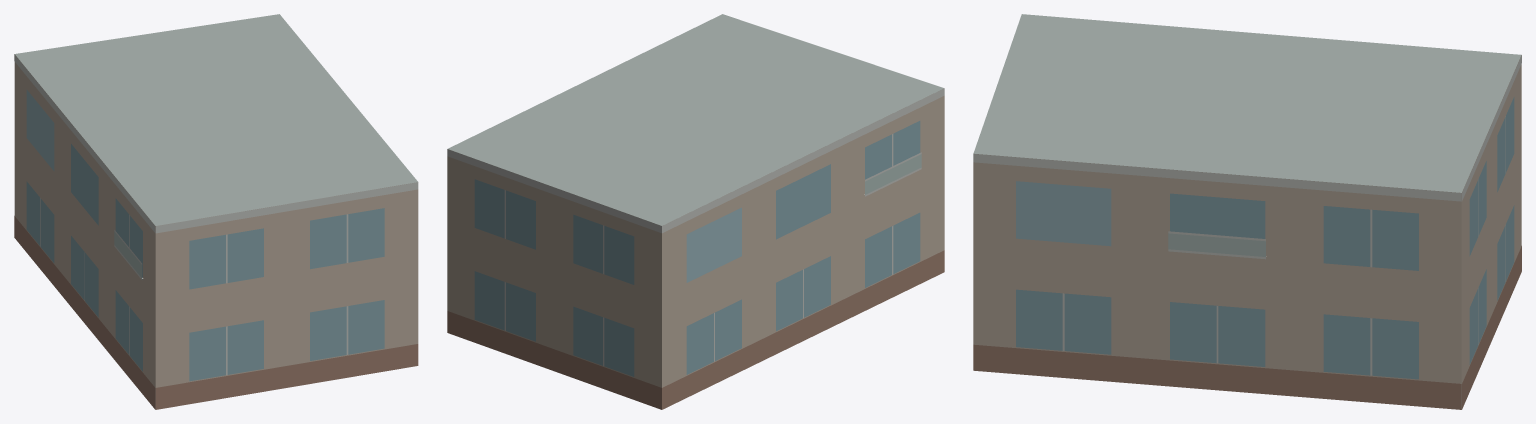
The model's file is survey-upis-32484530.glb.
The picture shows the model from 3 angles, left to right: view 1: azimuth 30°, elevation 25°; view 2: azimuth 150°, elevation 25°; view 3: azimuth 270°, elevation 25°; orthographic projection. The views are drawn at different scales.
Visible parts, largest first — view 1: survey-upis-32484530.tmp; view 2: survey-upis-32484530.tmp; view 3: survey-upis-32484530.tmp.
Boxes of the visible parts, <box> form: survey-upis-32484530.tmp: <box>14,14,418,409</box>; survey-upis-32484530.tmp: <box>447,14,944,409</box>; survey-upis-32484530.tmp: <box>973,14,1521,409</box>.
Size of the model in its own units: 10.8 by 6.1 by 13.98.
